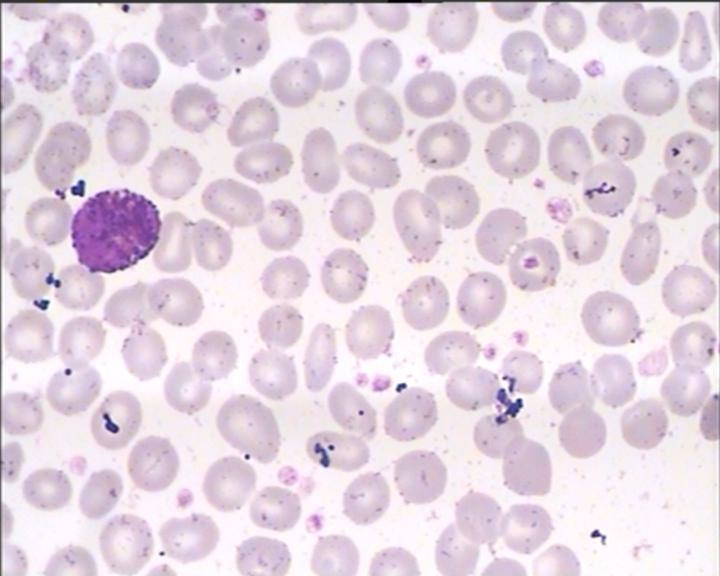baso: (64, 187, 165, 278)
